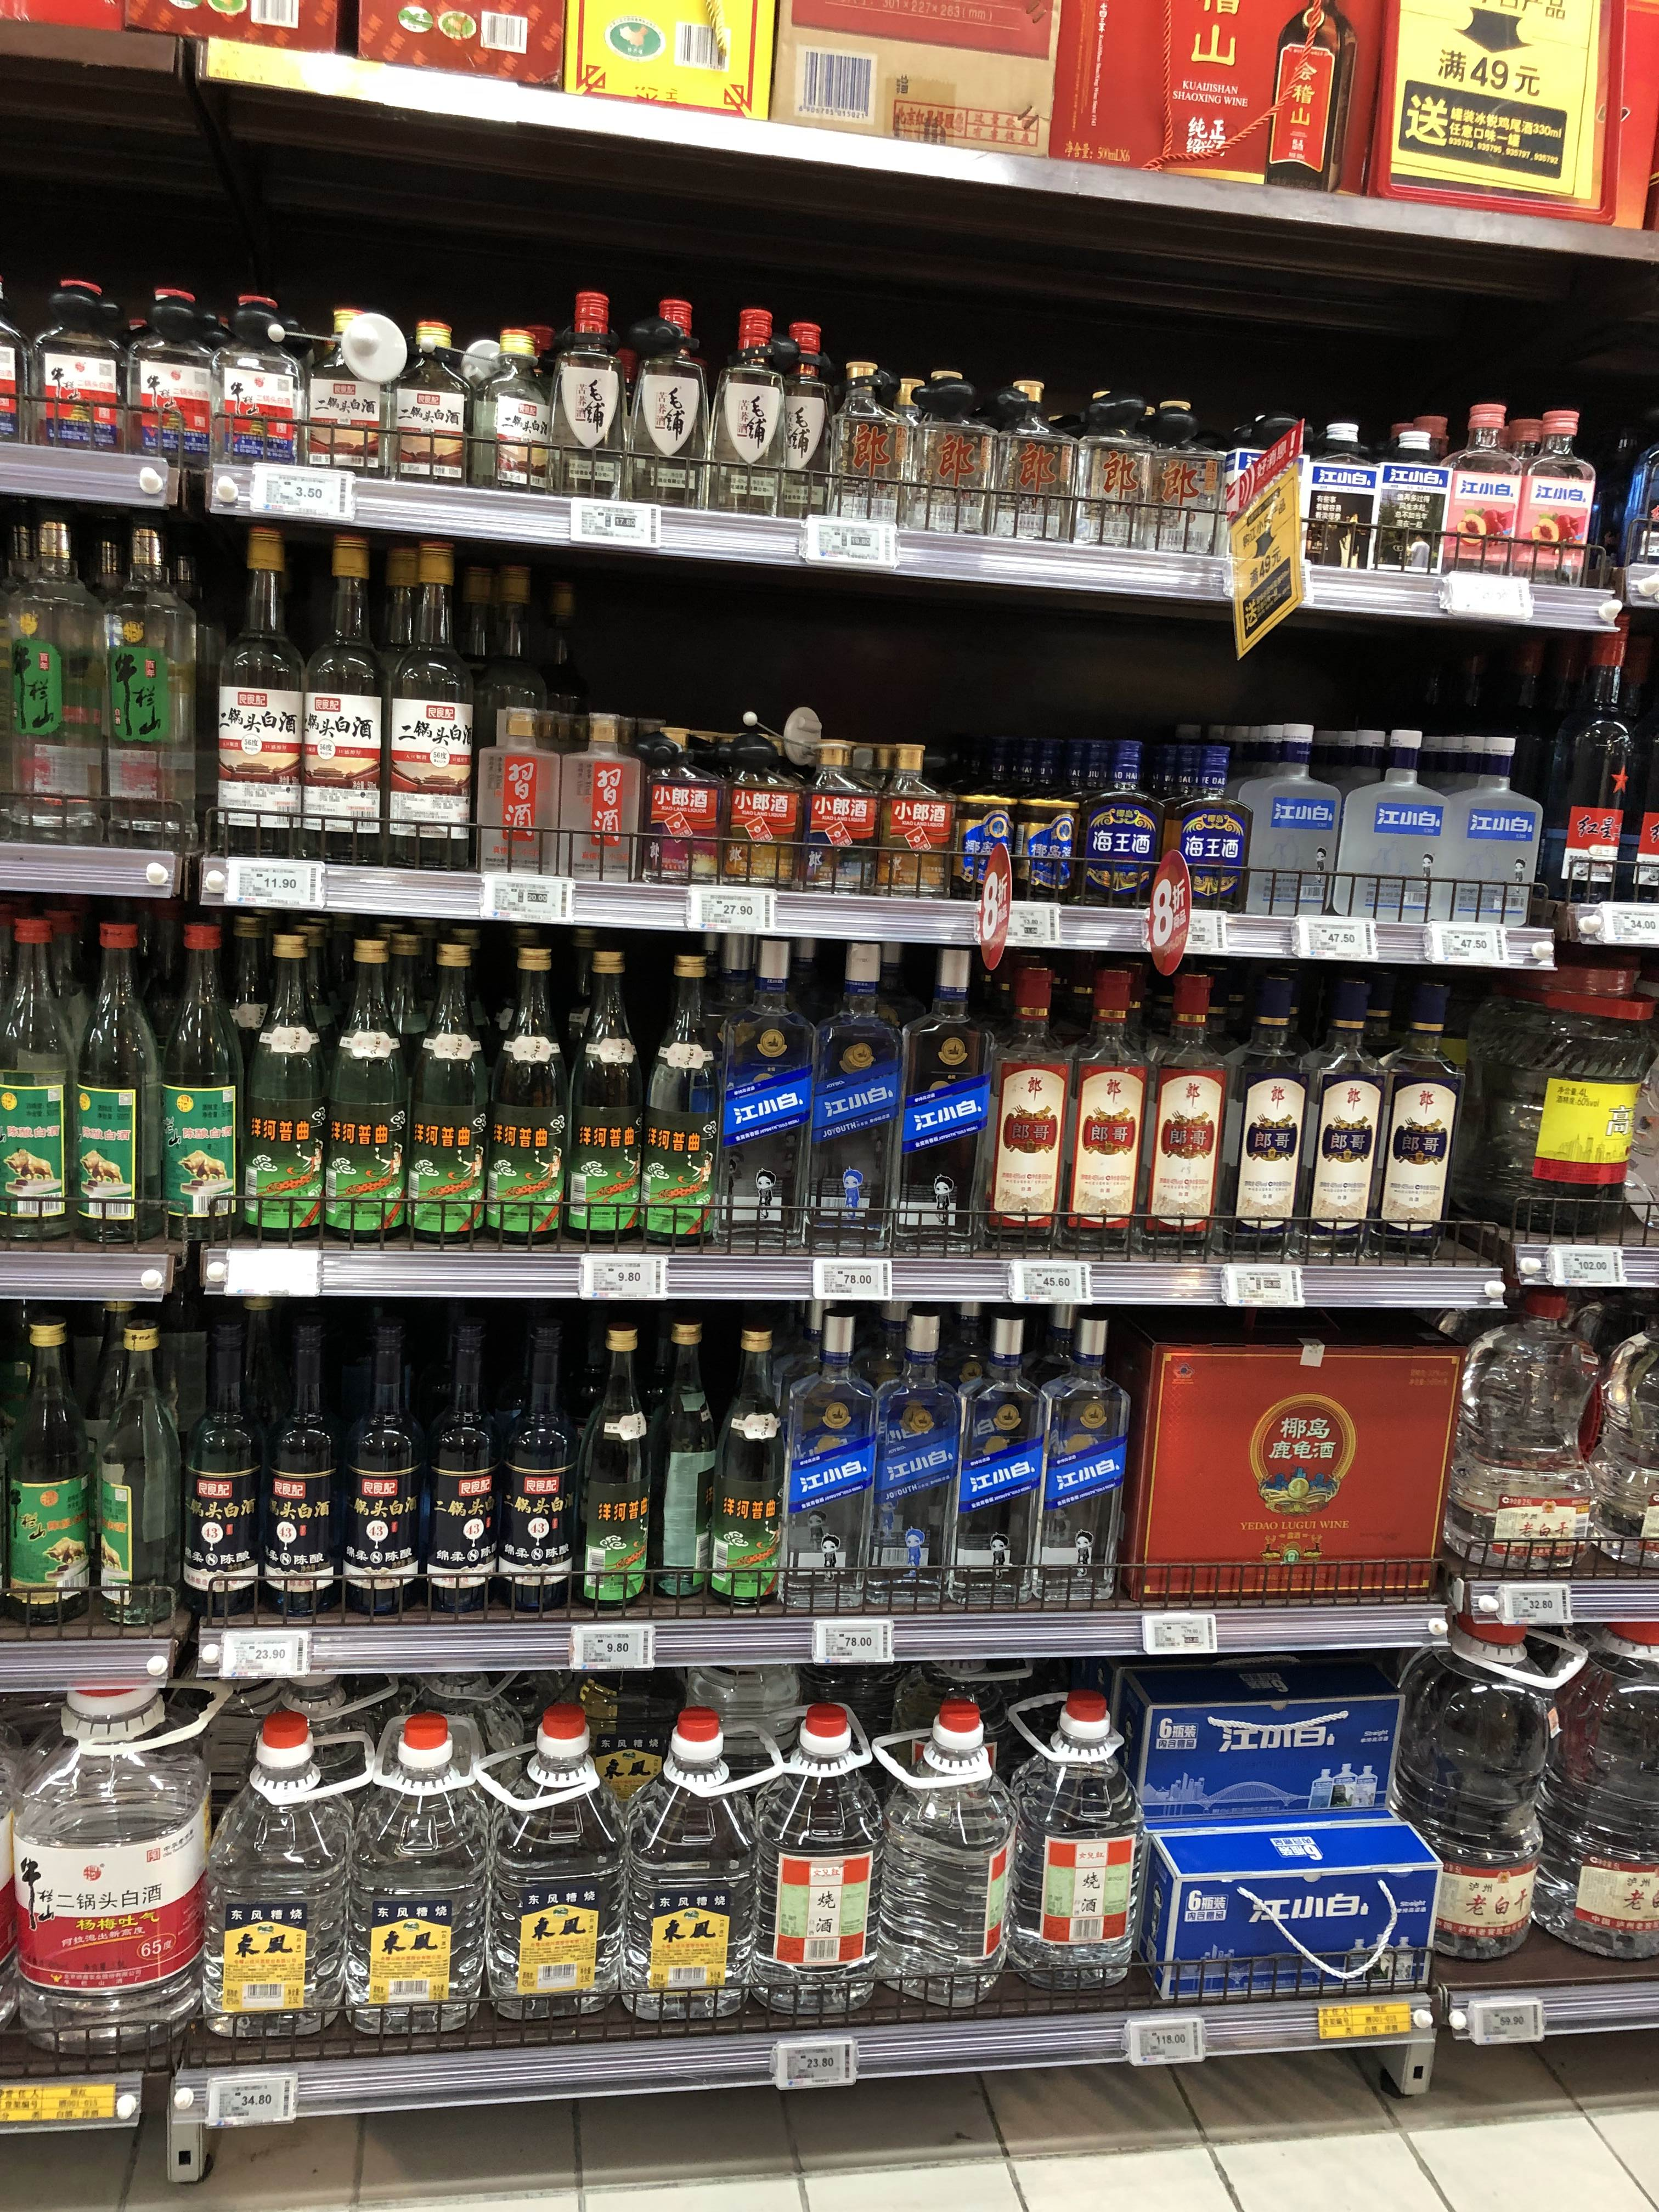bag: (300, 308, 399, 477)
bottle: (1387, 1620, 1553, 1972), (1446, 1289, 1612, 1578), (871, 1712, 1025, 2019), (338, 1719, 479, 2047), (484, 1707, 624, 2036), (1527, 1620, 1657, 1966), (204, 1723, 340, 2052), (746, 1709, 884, 2027), (617, 1714, 751, 2034), (1009, 1695, 1145, 2005), (2, 519, 101, 845), (63, 920, 160, 1249), (1366, 975, 1473, 1261), (857, 1310, 957, 1613), (298, 533, 389, 862), (150, 920, 239, 1247), (385, 542, 474, 867), (96, 531, 186, 850), (775, 1312, 871, 1611), (87, 1324, 183, 1623), (317, 941, 410, 1251), (213, 526, 300, 853), (396, 942, 488, 1251), (809, 941, 906, 1231), (1033, 1317, 1133, 1602), (1136, 977, 1234, 1266), (0, 1325, 92, 1630), (476, 948, 568, 1252), (896, 948, 992, 1240), (1539, 637, 1640, 913), (176, 1310, 265, 1622), (235, 935, 322, 1247), (1288, 981, 1382, 1264), (490, 1317, 579, 1616), (256, 1310, 342, 1620), (0, 921, 80, 1251), (568, 1331, 660, 1616), (1220, 981, 1312, 1266), (638, 953, 723, 1259), (415, 1313, 500, 1620), (336, 1317, 422, 1620), (558, 954, 643, 1251), (981, 968, 1070, 1252), (1061, 972, 1148, 1259), (702, 1331, 788, 1615), (1511, 636, 1598, 911), (711, 932, 796, 1198), (636, 1329, 716, 1609), (955, 1315, 1033, 1594), (1244, 0, 1356, 190), (1581, 1317, 1659, 1575), (1215, 402, 1328, 561), (629, 296, 708, 510), (899, 371, 999, 536), (1157, 742, 1249, 916), (545, 291, 620, 503), (983, 381, 1082, 540), (709, 303, 782, 516), (211, 296, 296, 474), (1070, 735, 1157, 907), (1506, 409, 1593, 580), (1065, 387, 1159, 540), (1436, 404, 1520, 577), (1288, 425, 1385, 570), (476, 705, 559, 873), (1127, 399, 1223, 543), (476, 329, 552, 498), (396, 315, 471, 488), (634, 730, 713, 888), (563, 712, 634, 883), (824, 361, 906, 507), (870, 744, 943, 902), (772, 320, 833, 510), (805, 738, 877, 897), (1004, 765, 1075, 902), (950, 786, 1012, 902)
box: (1124, 1315, 1457, 1618), (1141, 1829, 1450, 2013), (1115, 1667, 1410, 1829)
bucket: (10, 1677, 206, 2073), (1499, 993, 1659, 1221), (1434, 763, 1542, 918)
jar: (1220, 725, 1340, 920), (1328, 733, 1448, 921), (127, 289, 218, 470), (33, 280, 124, 448), (716, 737, 805, 894), (1368, 420, 1452, 577)
others: (774, 0, 1112, 174), (1164, 0, 1309, 190), (565, 0, 765, 117), (366, 0, 566, 82)
